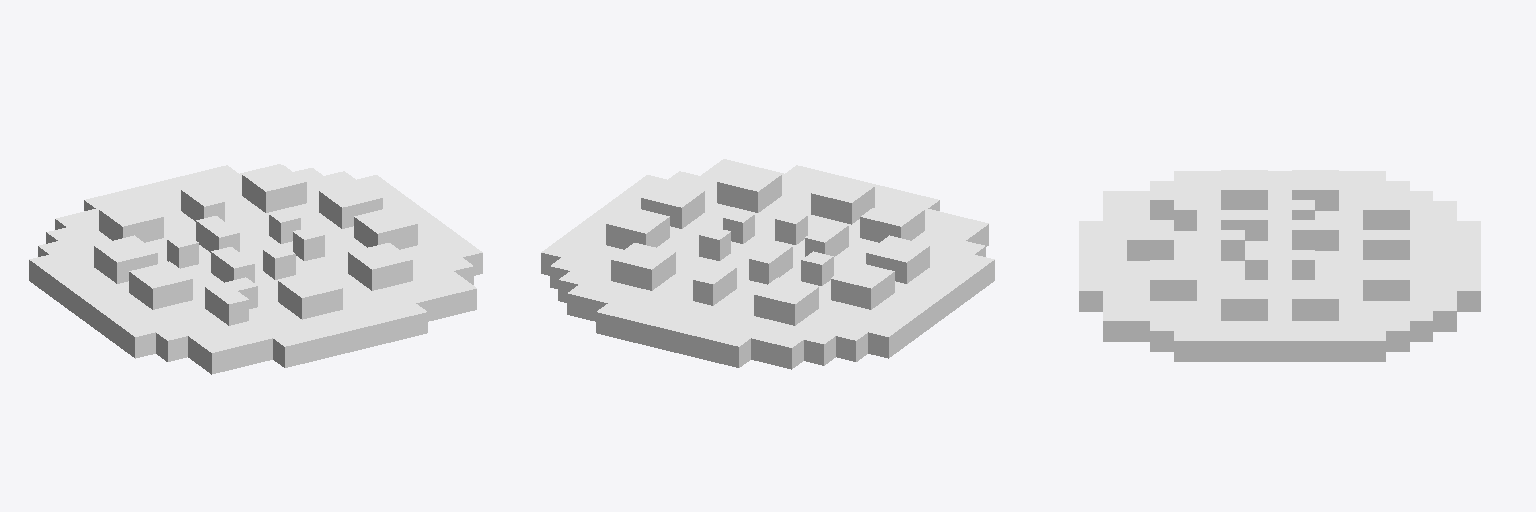
File: Pizza1a.obj
The picture shows the model from 3 angles: view 1: azimuth 30°, elevation 25°; view 2: azimuth 150°, elevation 25°; view 3: azimuth 270°, elevation 25°; orthographic projection.
Size of the model in its own units: 0.85 by 0.1 by 0.85.